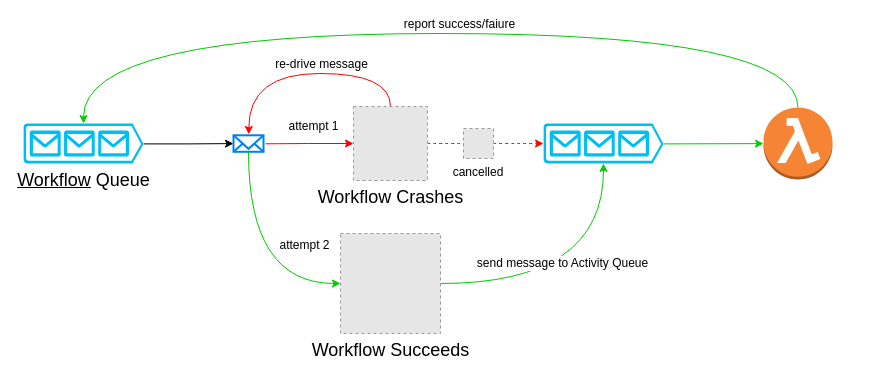
Image size: 872x380. Some labels were removed from this diagram. Grey dashed boxes stand in for pictures. The shapes that lost their labels are listed below. From the top down, each one's box as (x1, y1, x2, y2) in pixels, then its label:
(543, 123, 663, 163): Activity Queue
(762, 106, 832, 180): Activity Worker
